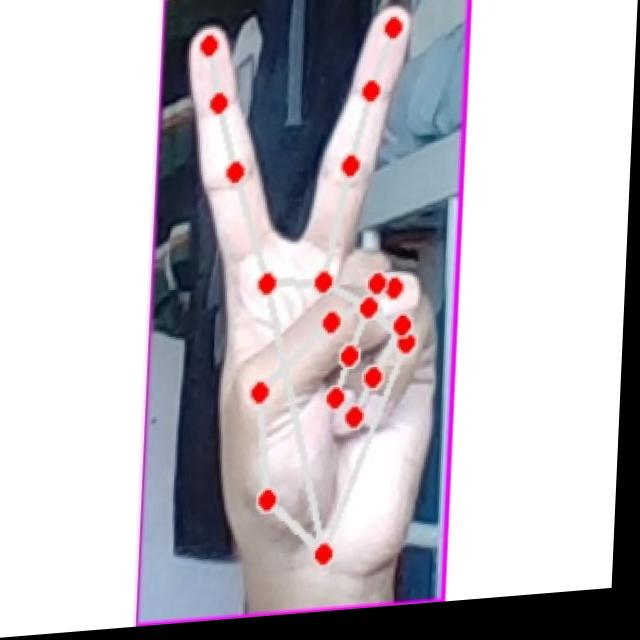V: (164, 0, 457, 595)
